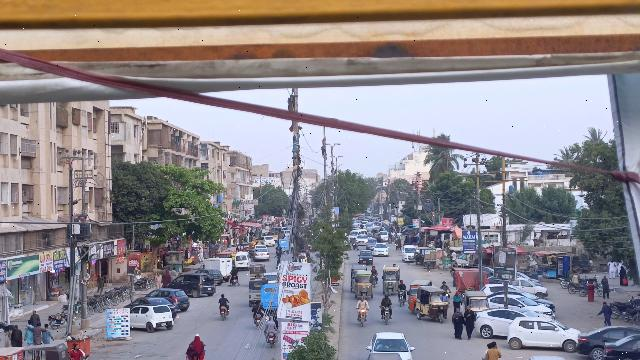Bike: (355, 306, 369, 328), (380, 306, 394, 326), (265, 331, 278, 350), (218, 304, 229, 322), (253, 311, 264, 328), (231, 275, 240, 287)
Car: (506, 315, 580, 352), (474, 306, 539, 340), (576, 324, 640, 358), (365, 329, 416, 360), (128, 304, 175, 332), (168, 272, 217, 297), (148, 286, 191, 311), (602, 333, 640, 360)
Person: (449, 307, 465, 340), (595, 299, 615, 325), (462, 305, 476, 341), (187, 331, 206, 357), (264, 314, 277, 333), (379, 292, 393, 308), (216, 293, 230, 307), (356, 296, 369, 309), (250, 301, 263, 314), (229, 265, 240, 277)
Rickshaw: (414, 286, 450, 325), (407, 279, 431, 314), (464, 290, 490, 315), (380, 266, 402, 295), (247, 276, 268, 306), (354, 271, 375, 300), (260, 283, 281, 312)
Truck: (204, 256, 233, 277)
